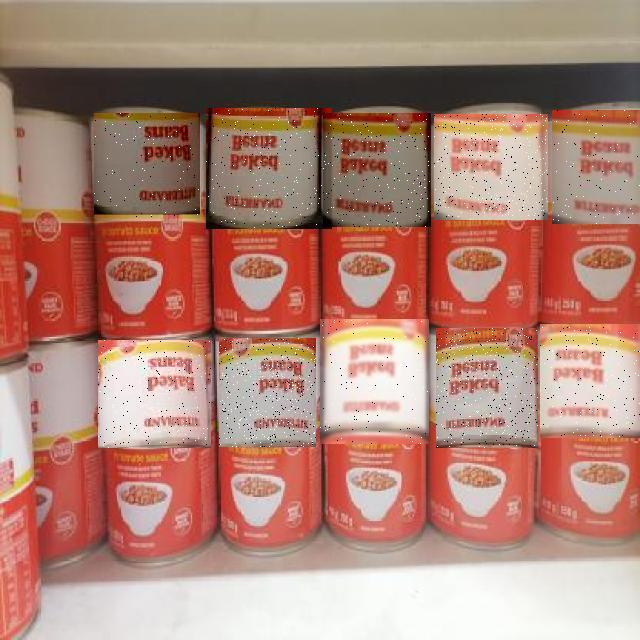Beans: (206, 108, 332, 229), (320, 319, 429, 444), (323, 113, 431, 227), (436, 329, 538, 449), (98, 341, 211, 449), (434, 114, 548, 220), (540, 324, 640, 438), (94, 114, 200, 218), (219, 338, 316, 447), (552, 110, 640, 224)
